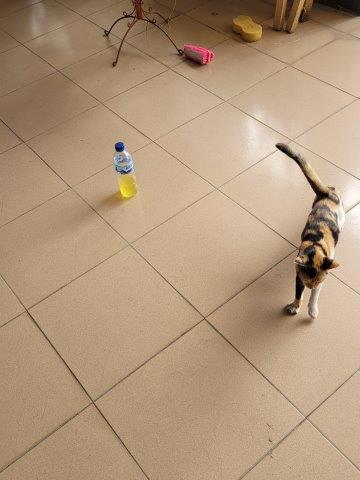botolplastik: (113, 142, 137, 199)
